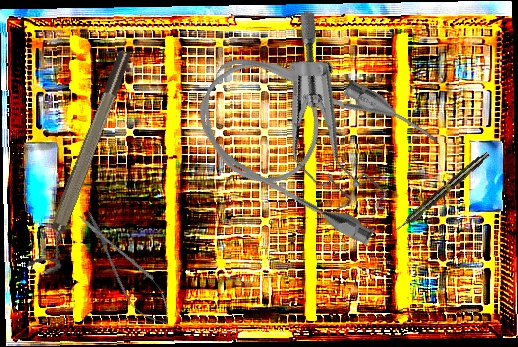Cannula: (178, 22, 443, 252)
Fixation Ring: (26, 47, 146, 279)
Handpiece: (392, 149, 492, 235)
Micro Scissor: (69, 202, 182, 335)
Speculum: (221, 6, 445, 236)
